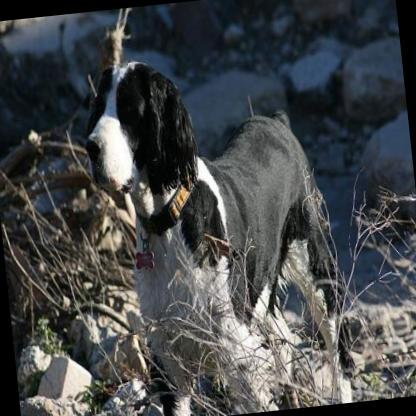English_springer: (75, 39, 356, 416)
